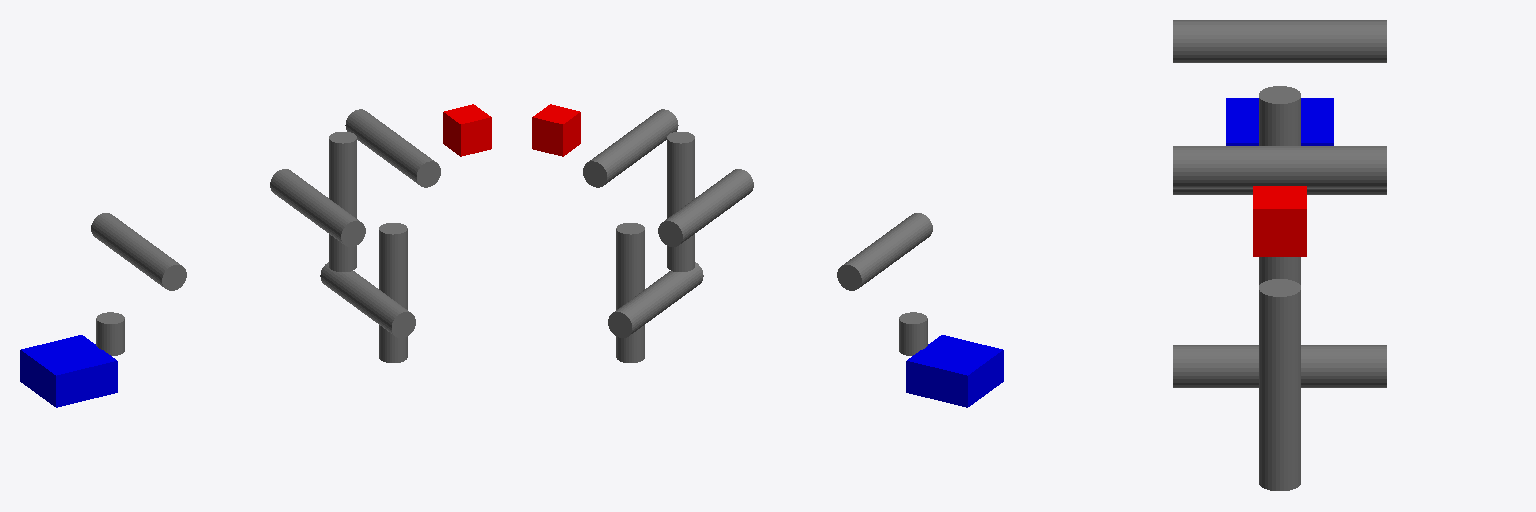
robot.urdf — reach_bravo_7:
<?xml version="1.0"?>
<robot name="reach_bravo_7">

  <!-- ================================================================================= -->
  <!-- Links -->
  <!-- ================================================================================= -->
  
  <!-- Base Link -->
  <link name="base_link">
    <!-- Placeholder for visual and collision properties of the base -->
    <visual>
      <origin xyz="0 0 0" rpy="0 0 0"/>
      <geometry>
        <box size="0.1 0.1 0.05"/>
      </geometry>
      <material name="blue">
        <color rgba="0 0 1 1"/>
      </material>
    </visual>
    <collision>
      <origin xyz="0 0 0" rpy="0 0 0"/>
      <geometry>
        <box size="0.1 0.1 0.05"/>
      </geometry>
    </collision>
    <!-- Placeholder inertia. Mass and inertia values are not provided in DH table. -->
    <inertial>
      <origin xyz="0 0 0" rpy="0 0 0"/>
      <mass value="0.1"/>
      <inertia ixx="0.01" ixy="0.0" ixz="0.0" iyy="0.01" iyz="0.0" izz="0.01"/>
    </inertial>
  </link>

  <!-- ================================================================================= -->
  <!-- Joint and Link Definitions from DH Table -->
  <!-- ================================================================================= -->

  <!-- Joint 0: Fixed joint to connect the base_link to link_0 -->
  <joint name="joint_0" type="revolute">
    <parent link="base_link"/>
    <child link="link_0"/>
    <!-- Origin based on DH parameters: a=67.5mm, d=41.45mm, alpha=pi -->
    <!-- URDF units are meters -->
    <origin xyz="0.0675 0 0.04145" rpy="3.14159 0 0"/>
        <axis xyz="0 0 1"/>
    <limit lower="-3.14159" upper="3.14159" effort="100.0" velocity="100.0"/>
  </joint>
  
  <link name="link_0">
    <visual>
      <origin xyz="0 0 0" rpy="0 0 0"/>
      <geometry>
        <cylinder length="0.05" radius="0.02"/>
      </geometry>
      <material name="gray">
        <color rgba="0.5 0.5 0.5 1"/>
      </material>
    </visual>
  </link>
  
  <!-- Joint 1: Revolute joint from link_0 to link_1 -->
  <joint name="joint_1" type="revolute">
    <parent link="link_0"/>
    <child link="link_1"/>
    <!-- Origin based on DH parameters: a=46.0mm, d=-117.48mm, alpha=-pi/2 -->
    <origin xyz="0.046 0 -0.11748" rpy="-1.5708 0 0"/>
    <axis xyz="0 0 1"/>
    <limit lower="-3.14159" upper="3.14159" effort="100.0" velocity="100.0"/>
  </joint>
  <link name="link_1">
    <visual>
      <origin xyz="0 0 0" rpy="0 0 0"/>
      <geometry>
        <cylinder length="0.2" radius="0.02"/>
      </geometry>
      <material name="gray"/>
    </visual>
  </link>

  <!-- Joint 2: Revolute joint from link_1 to link_2 -->
  <joint name="joint_2" type="revolute">
    <parent link="link_1"/>
    <child link="link_2"/>
    <!-- Origin based on DH parameters: a=a2 (290.817mm), d=0.0mm, alpha=0.0 -->
    <origin xyz="0.290817 0 0" rpy="0 0 0"/>
    <axis xyz="0 0 1"/>
    <limit lower="-3.14159" upper="3.14159" effort="100.0" velocity="100.0"/>
  </joint>
  <link name="link_2">
    <visual>
      <origin xyz="0 0 0" rpy="0 0 0"/>
      <geometry>
        <cylinder length="0.2" radius="0.02"/>
      </geometry>
      <material name="gray"/>
    </visual>
  </link>

  <!-- Joint 3: Revolute joint from link_2 to link_3 -->
  <joint name="joint_3" type="revolute">
    <parent link="link_2"/>
    <child link="link_3"/>
    <!-- Origin based on DH parameters: a=40.8mm, d=0.0mm, alpha=-pi/2 -->
    <origin xyz="0.0408 0 0" rpy="-1.5708 0 0"/>
    <axis xyz="0 0 1"/>
    <limit lower="-3.14159" upper="3.14159" effort="100.0" velocity="100.0"/>
  </joint>
  <link name="link_3">
    <visual>
      <origin xyz="0 0 0" rpy="0 0 0"/>
      <geometry>
        <cylinder length="0.2" radius="0.02"/>
      </geometry>
      <material name="gray"/>
    </visual>
  </link>

  <!-- Joint 4: Revolute joint from link_3 to link_4 -->
  <joint name="joint_4" type="revolute">
    <parent link="link_3"/>
    <child link="link_4"/>
    <!-- Origin based on DH parameters: a=40.8mm, d=-160.26mm, alpha=-pi/2 -->
    <origin xyz="0.0408 0 -0.16026" rpy="-1.5708 0 0"/>
    <axis xyz="0 0 1"/>
    <limit lower="-3.14159" upper="3.14159" effort="100.0" velocity="100.0"/>
  </joint>
  <link name="link_4">
    <visual>
      <origin xyz="0 0 0" rpy="0 0 0"/>
      <geometry>
        <cylinder length="0.2" radius="0.02"/>
      </geometry>
      <material name="gray"/>
    </visual>
  </link>

  <!-- Joint 5: Revolute joint from link_4 to link_5 -->
  <joint name="joint_5" type="revolute">
    <parent link="link_4"/>
    <child link="link_5"/>
    <!-- Origin based on DH parameters: a=40.8mm, d=0.0mm, alpha=-pi/2 -->
    <origin xyz="0.0408 0 0" rpy="-1.5708 0 0"/>
    <axis xyz="0 0 1"/>
    <limit lower="-3.14159" upper="3.14159" effort="100.0" velocity="100.0"/>
  </joint>
  <link name="link_5">
    <visual>
      <origin xyz="0 0 0" rpy="0 0 0"/>
      <geometry>
        <cylinder length="0.2" radius="0.02"/>
      </geometry>
      <material name="gray"/>
    </visual>
  </link>

  <!-- Joint 6: Revolute joint from link_5 to link_6 -->
  <joint name="joint_6" type="revolute">
    <parent link="link_5"/>
    <child link="link_6"/>
    <!-- Origin based on DH parameters: a=0.0mm, d=-224.16mm, alpha=pi/2 -->
    <origin xyz="0 0 -0.22416" rpy="1.5708 0 0"/>
    <axis xyz="0 0 1"/>
    <limit lower="-3.14159" upper="3.14159" effort="100.0" velocity="100.0"/>
  </joint>
  <link name="link_6">
    <visual>
      <origin xyz="0 0 0" rpy="0 0 0"/>
      <geometry>
        <cylinder length="0.2" radius="0.02"/>
      </geometry>
      <material name="gray"/>
    </visual>
  </link>
  
  <!-- Joint 7: Fixed joint from link_6 to link_7 (end-effector) -->
  <joint name="joint_7" type="fixed">
    <parent link="link_6"/>
    <child link="link_7"/>
    <!-- Origin based on DH parameters: a=120.0mm, d=0.0mm, alpha=0.0 -->
    <origin xyz="0.120 0 0" rpy="0 0 0"/>
  </joint>
  <link name="link_7">
    <visual>
      <origin xyz="0 0 0" rpy="0 0 0"/>
      <geometry>
        <box size="0.05 0.05 0.05"/>
      </geometry>
      <material name="red">
        <color rgba="1 0 0 1"/>
      </material>
    </visual>
  </link>

</robot>

--- What the picture shows (computed from the rendered views, not written in the file) ---
The picture shows the robot from 3 angles, left to right: view 1: azimuth 30°, elevation 25°; view 2: azimuth 150°, elevation 25°; view 3: azimuth 270°, elevation 25°; orthographic projection.
Model reach_bravo_7 with 9 links and 8 joints (7 revolute, 1 fixed), rooted at base_link, posed all joints at 0.
Visible links, largest first — view 1: base_link, link_5, link_2, link_1, link_6, link_3, link_4, link_7, link_0; view 2: base_link, link_5, link_2, link_1, link_6, link_3, link_4, link_7, link_0; view 3: link_1, link_6, link_5, link_4, link_7, link_3, base_link, link_2.
Boxes of the visible links, bbox=[...] form: base_link: bbox=[20, 335, 117, 407]; link_5: bbox=[379, 223, 407, 362]; link_2: bbox=[270, 169, 365, 246]; link_1: bbox=[91, 213, 186, 290]; link_6: bbox=[345, 109, 440, 187]; link_3: bbox=[329, 132, 356, 271]; link_4: bbox=[320, 262, 415, 337]; link_7: bbox=[443, 104, 491, 156]; link_0: bbox=[96, 312, 124, 355]; base_link: bbox=[906, 335, 1003, 407]; link_5: bbox=[616, 223, 644, 362]; link_2: bbox=[658, 169, 753, 246]; link_1: bbox=[837, 213, 932, 290]; link_6: bbox=[583, 109, 678, 187]; link_3: bbox=[667, 132, 694, 271]; link_4: bbox=[608, 262, 703, 337]; link_7: bbox=[532, 104, 580, 156]; link_0: bbox=[899, 312, 927, 355]; link_1: bbox=[1173, 20, 1386, 62]; link_6: bbox=[1173, 146, 1386, 188]; link_5: bbox=[1259, 279, 1300, 490]; link_4: bbox=[1173, 345, 1386, 387]; link_7: bbox=[1253, 186, 1306, 256]; link_3: bbox=[1259, 86, 1300, 284]; base_link: bbox=[1226, 98, 1333, 145]; link_2: bbox=[1173, 189, 1386, 194].
Bounding box of the posed robot: 0.7217 × 0.2 × 0.3603 m (x, y, z).
Geometry: primitives only (box / cylinder / sphere), no mesh files.